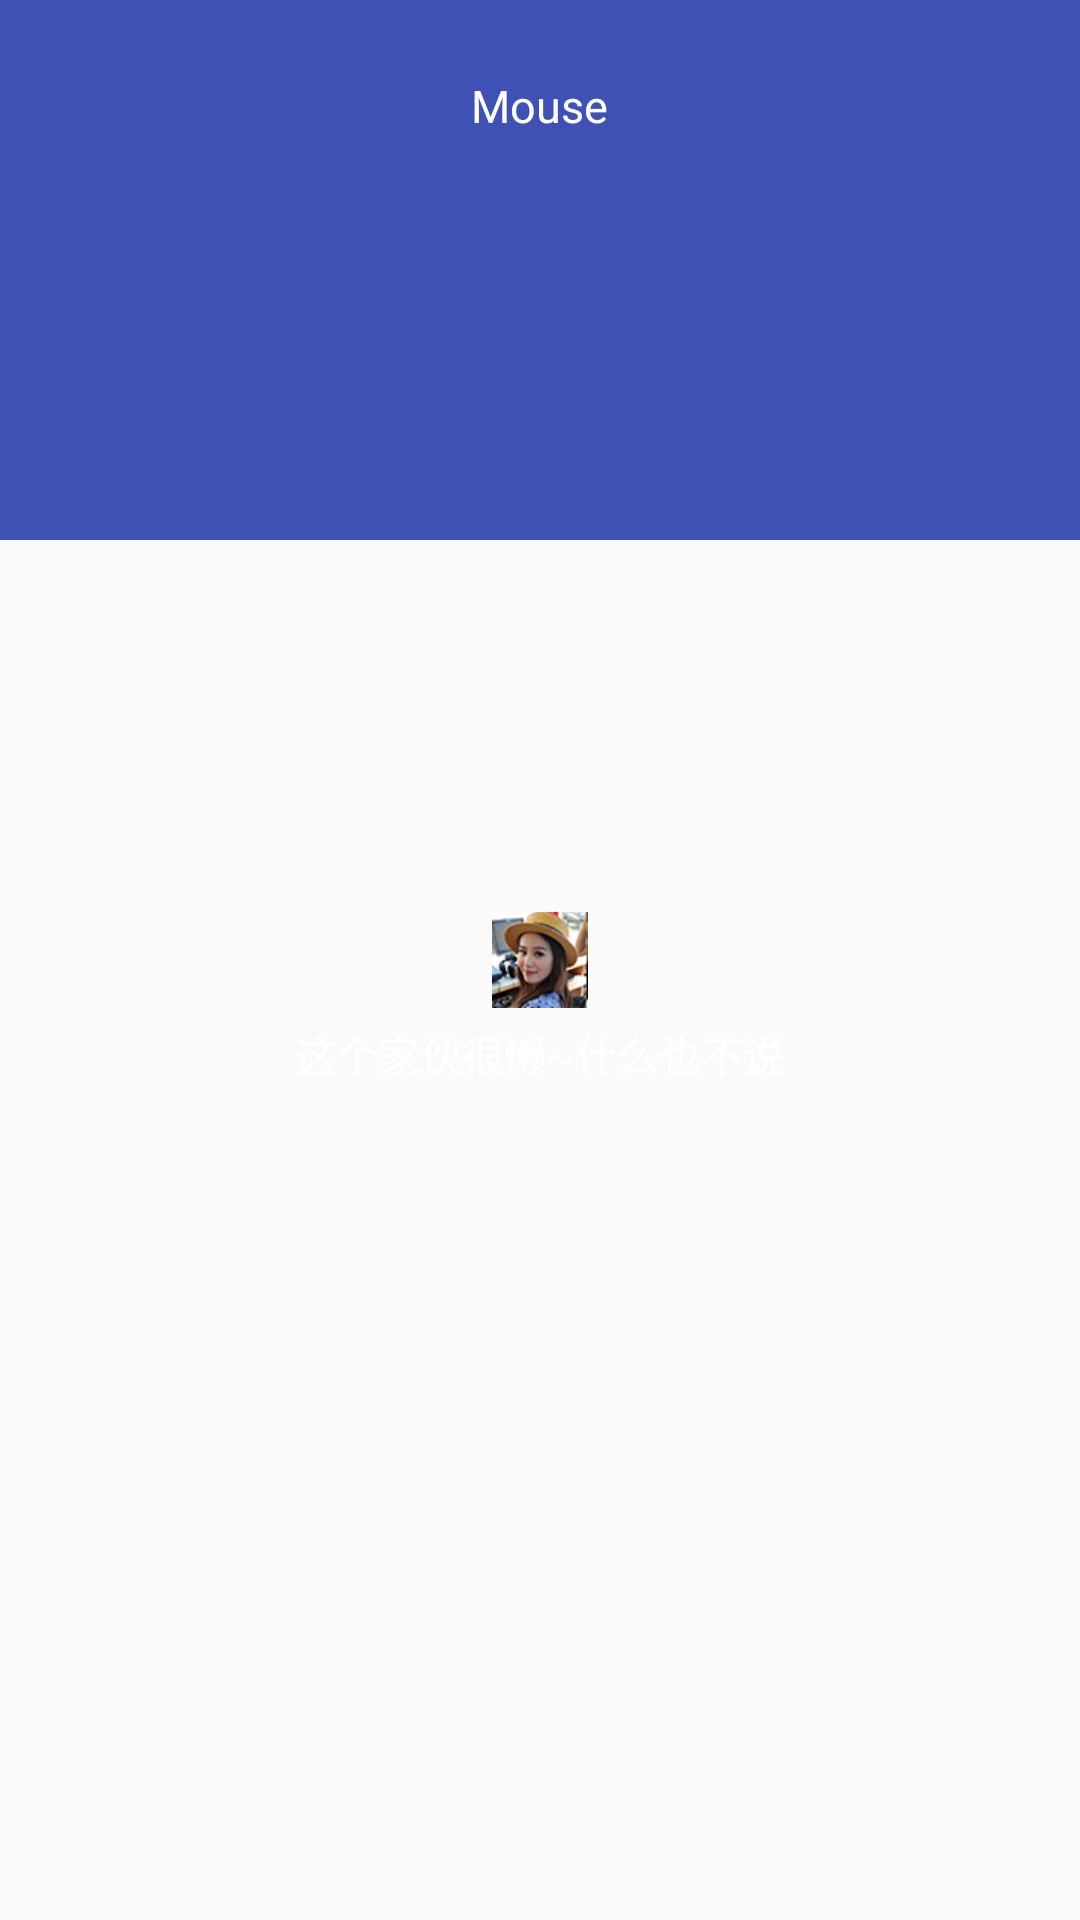

Where icons sit on this 1080px×1920px app screen, as region(x1, y1, x2, y2):
girl: region(492, 912, 588, 1008)
